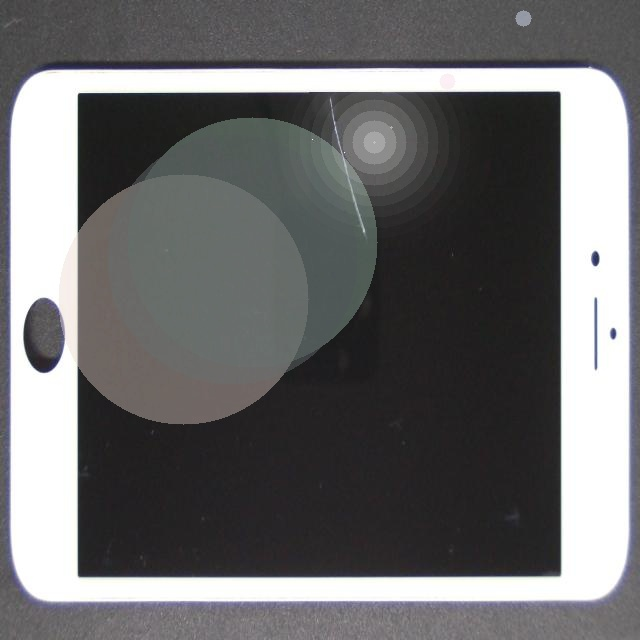scratch: (192, 50, 501, 143)
